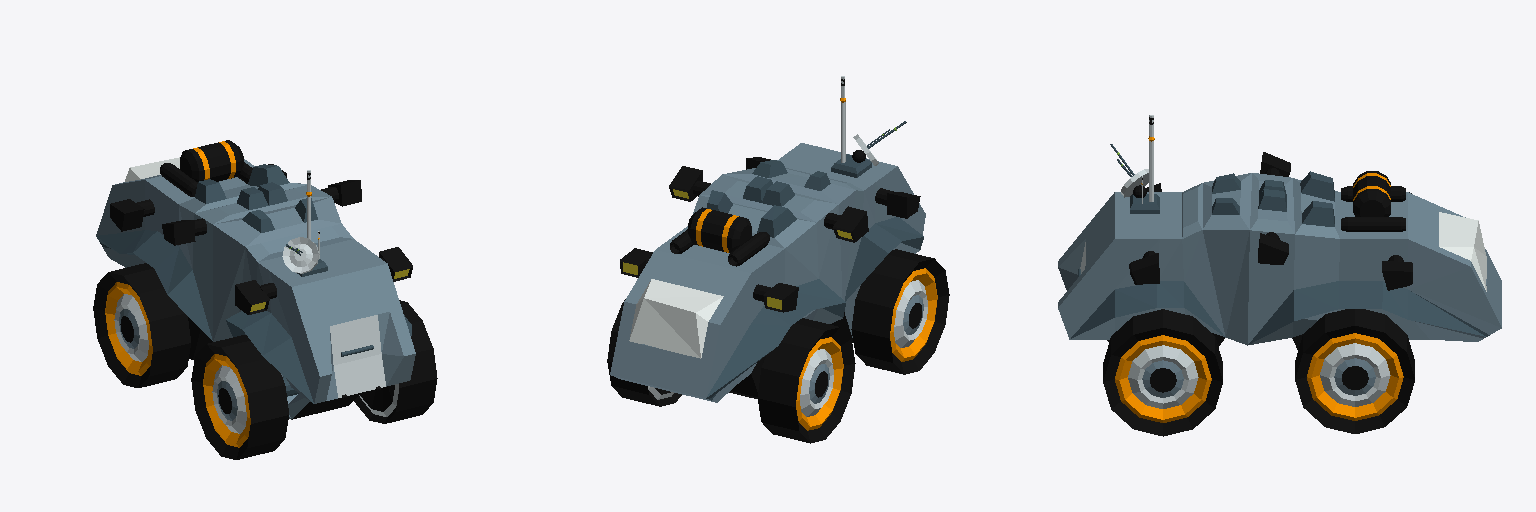
File: planetary_crawler.obj
The picture shows the model from 3 angles: view 1: azimuth 30°, elevation 25°; view 2: azimuth 150°, elevation 25°; view 3: azimuth 270°, elevation 25°; orthographic projection.
Visible parts, largest first — view 1: group[number redacted], group[number redacted], group[number redacted], group[number redacted], group[number redacted], group[number redacted], group[number redacted], group[number redacted], group[number redacted], group[number redacted], group[number redacted], group[number redacted] (+1 smaller); view 2: group[number redacted], group[number redacted], group[number redacted], group[number redacted], group[number redacted], group[number redacted], group[number redacted], group[number redacted], group[number redacted], group[number redacted], group[number redacted], group[number redacted] (+1 smaller); view 3: group[number redacted], group[number redacted], group[number redacted], group[number redacted], group[number redacted], group[number redacted], group[number redacted], group[number redacted], group[number redacted].
Part boxes in pixels (left/top/right/bottom): group[number redacted]: left=96, top=159, right=415, bottom=419; group[number redacted]: left=191, top=335, right=288, bottom=459; group[number redacted]: left=93, top=263, right=190, bottom=387; group[number redacted]: left=354, top=300, right=437, bottom=423; group[number redacted]: left=180, top=140, right=243, bottom=181; group[number redacted]: left=282, top=237, right=319, bottom=273; group[number redacted]: left=235, top=280, right=269, bottom=314; group[number redacted]: left=110, top=199, right=144, bottom=231; group[number redacted]: left=379, top=247, right=412, bottom=281; group[number redacted]: left=162, top=220, right=195, bottom=245; group[number redacted]: left=160, top=163, right=197, bottom=196; group[number redacted]: left=328, top=180, right=361, bottom=206; group[number redacted]: left=610, top=143, right=925, bottom=402; group[number redacted]: left=851, top=249, right=949, bottom=374; group[number redacted]: left=758, top=318, right=855, bottom=443; group[number redacted]: left=629, top=279, right=723, bottom=358; group[number redacted]: left=688, top=207, right=751, bottom=252; group[number redacted]: left=607, top=299, right=681, bottom=406; group[number redacted]: left=833, top=206, right=868, bottom=242; group[number redacted]: left=764, top=283, right=798, bottom=312; group[number redacted]: left=669, top=166, right=702, bottom=201; group[number redacted]: left=887, top=192, right=920, bottom=218; group[number redacted]: left=728, top=232, right=769, bottom=266; group[number redacted]: left=620, top=248, right=652, bottom=277; group[number redacted]: left=1058, top=171, right=1501, bottom=349; group[number redacted]: left=1103, top=309, right=1222, bottom=436; group[number redacted]: left=1295, top=309, right=1414, bottom=433; group[number redacted]: left=1439, top=212, right=1486, bottom=291; group[number redacted]: left=1353, top=171, right=1390, bottom=216; group[number redacted]: left=1341, top=217, right=1405, bottom=231; group[number redacted]: left=1382, top=261, right=1412, bottom=290; group[number redacted]: left=1258, top=233, right=1288, bottom=264; group[number redacted]: left=1129, top=253, right=1159, bottom=284.
Bounding box in the file's own units: 0.95 × 1.29 × 1.92.